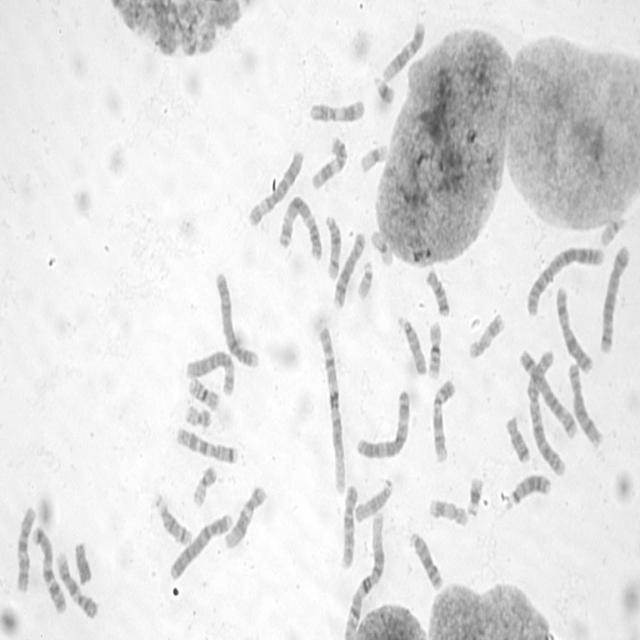A1: (341, 508, 386, 638), (316, 319, 347, 497)
A2: (523, 240, 606, 318), (522, 346, 568, 478)
A3: (353, 385, 411, 461), (276, 191, 324, 261)
B4: (167, 507, 234, 583), (213, 267, 261, 370)
B5: (517, 344, 579, 441), (597, 240, 632, 356)
C10: (13, 500, 36, 594), (338, 478, 359, 570)
C11: (309, 132, 349, 191), (307, 94, 367, 125)
C12: (222, 480, 268, 550), (380, 17, 427, 82)
C6: (246, 145, 306, 228), (184, 346, 237, 397)
C7: (29, 522, 68, 616), (174, 422, 239, 465)
C8: (566, 357, 605, 450), (331, 227, 367, 310)
C9: (54, 547, 100, 621), (429, 374, 457, 464)
D13: (406, 528, 445, 592), (504, 469, 552, 511)
D14: (151, 490, 193, 547), (322, 210, 343, 281)
D15: (394, 310, 428, 376), (352, 473, 394, 524)
E16: (186, 373, 221, 412), (425, 316, 444, 380)
E17: (466, 308, 506, 361), (427, 493, 470, 529)
E18: (502, 410, 532, 464), (423, 264, 451, 318)
F19: (358, 139, 389, 174), (368, 226, 394, 267)
F20: (190, 461, 218, 508), (182, 400, 213, 429)
G21: (464, 472, 485, 518), (371, 71, 397, 106)
G22: (598, 213, 628, 247), (354, 257, 374, 301)
X: (554, 282, 595, 374)
Y: (72, 537, 93, 585)
